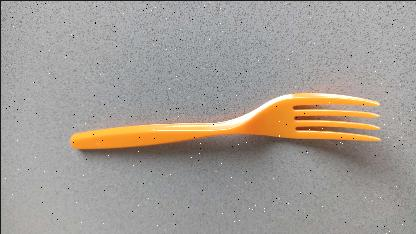Others: (69, 90, 381, 150)
